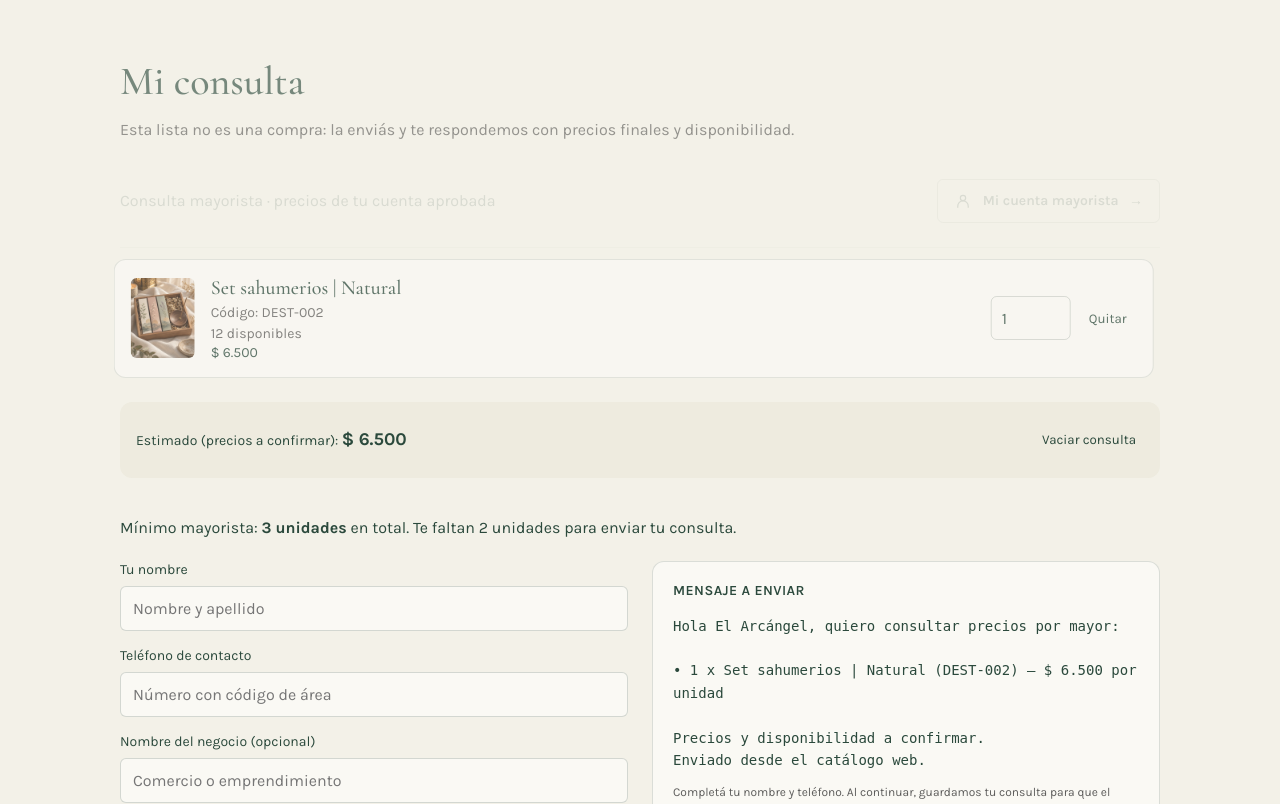
Scenario: El mínimo de unidades se exige aunque no haya importe mínimo
The width and height of the screenshot is (1280, 804).
Check: the text "Te faltan 2 unidades" is shown, box [413,518,736,537]
Clear the number field named "Cantidad de Set sahumerios | Natural". click: (1031, 318)
box: [991,296,1071,340]
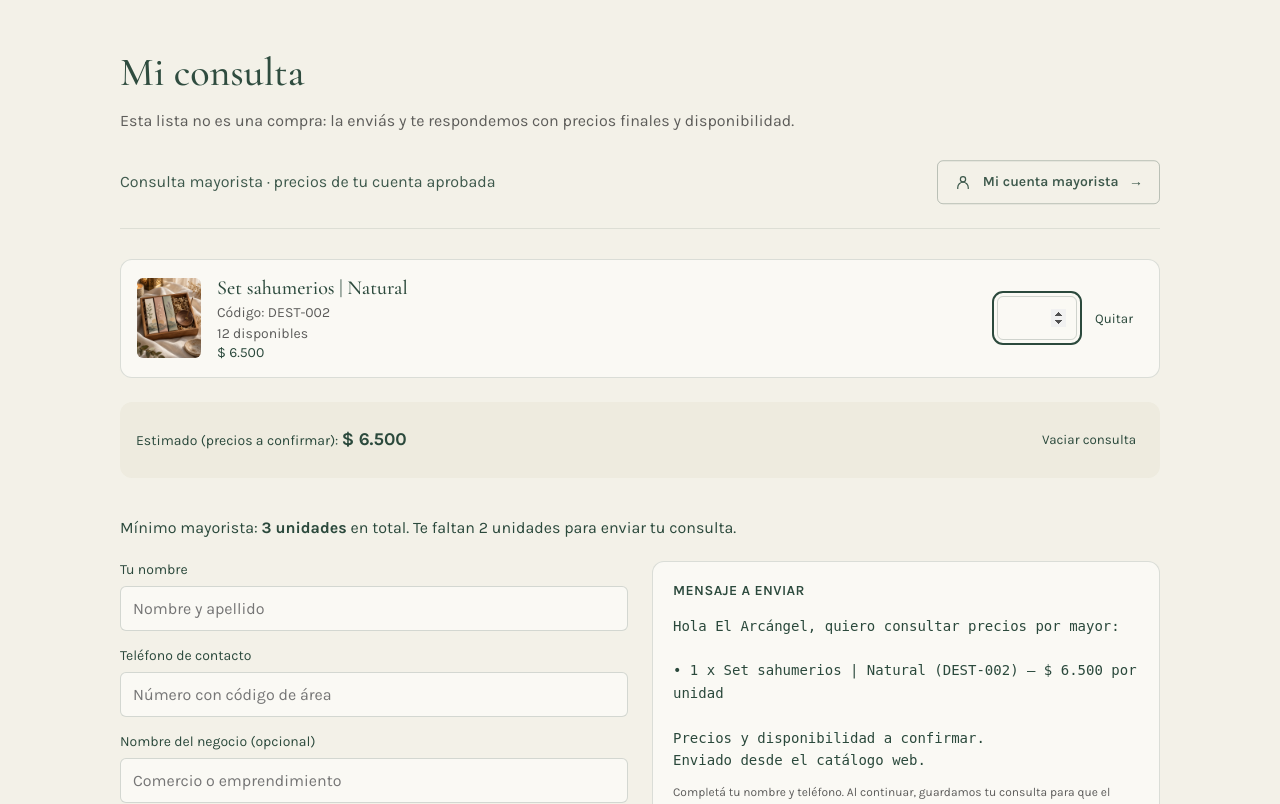
Type "3" into the number field named "Cantidad de Set sahumerios | Natural". click: (1037, 318)
box: [997,296,1077,340]
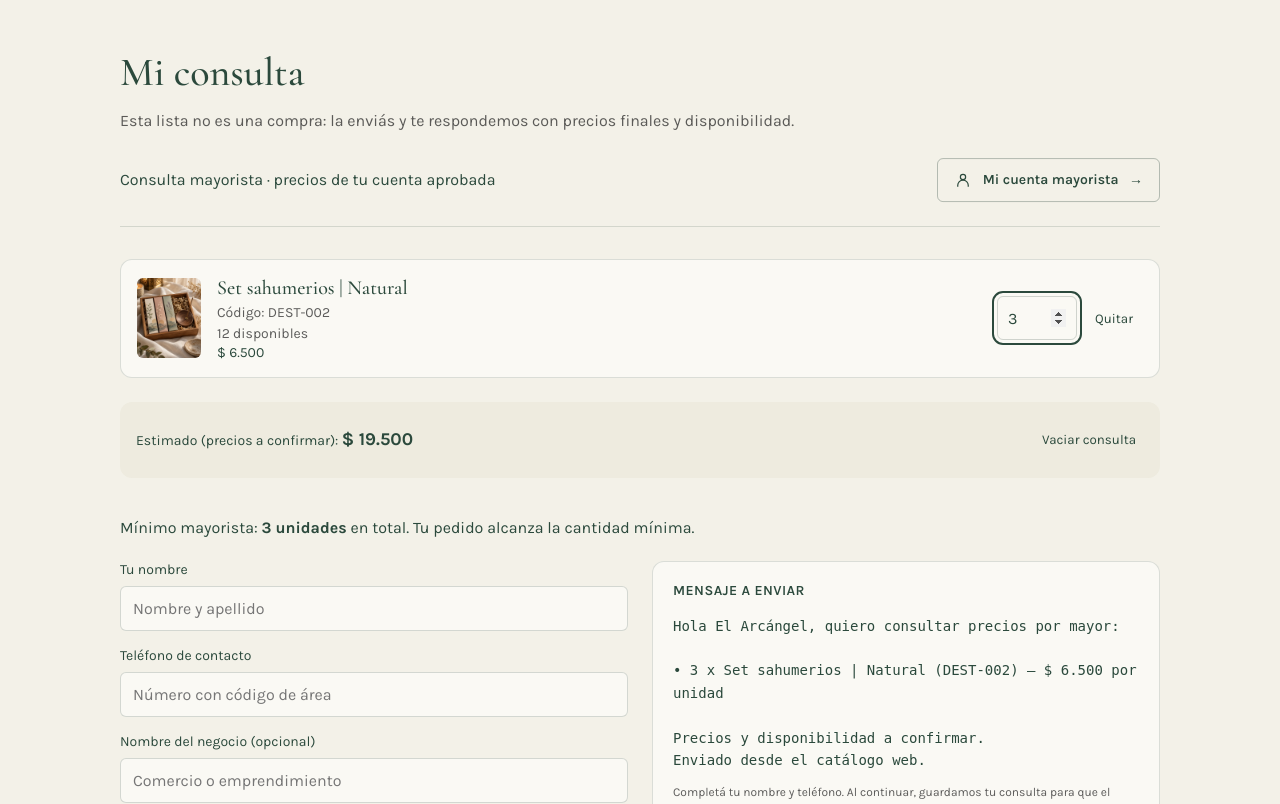
Press Tab
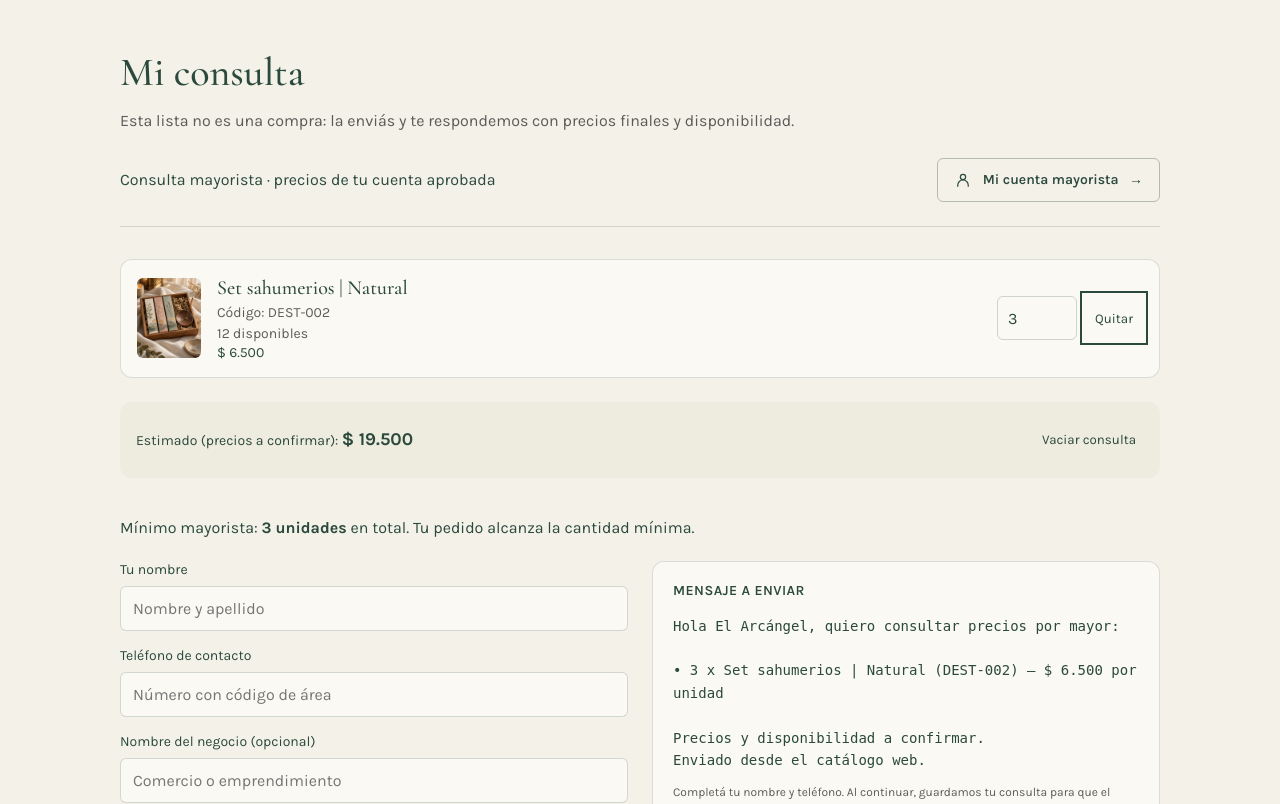
Type "Cliente" into the field labelled "Tu nombre". click: (374, 608)
box: [120,586,628,631]
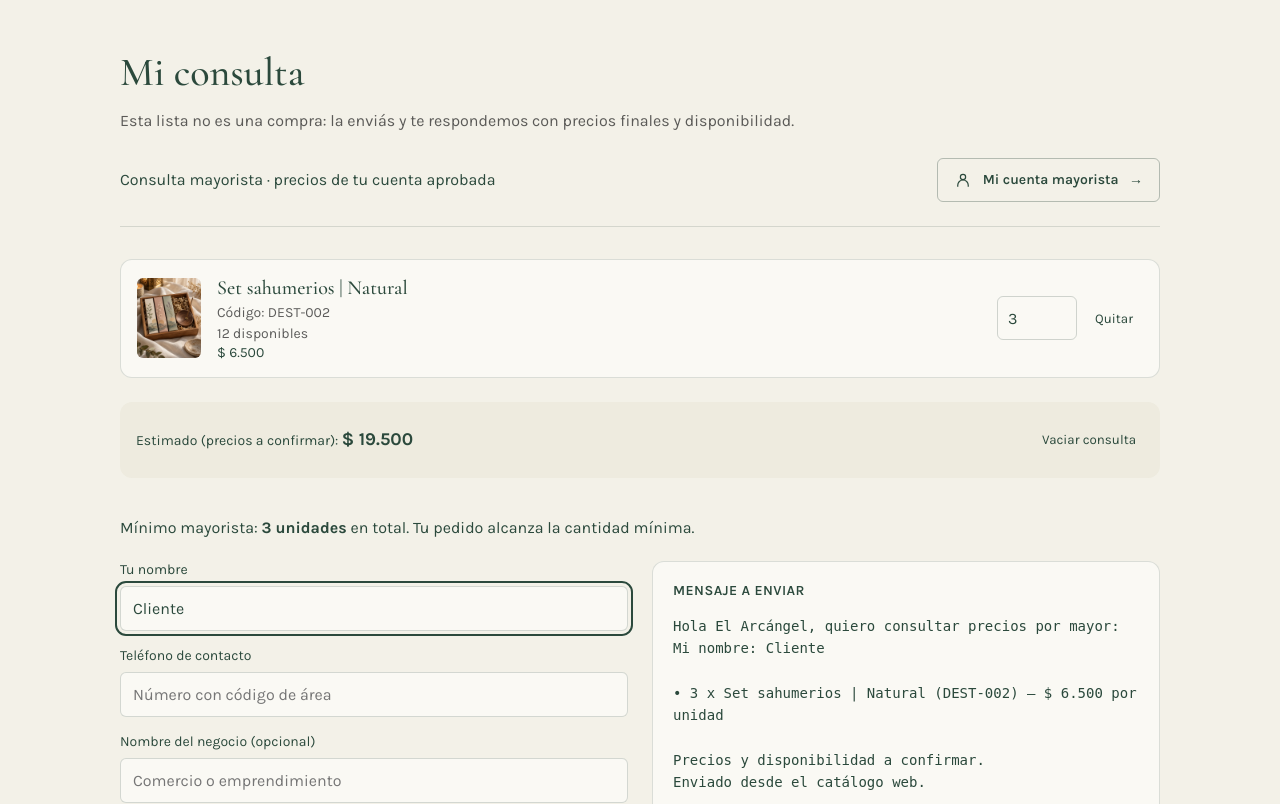
Type "2235551234" into the field labelled "Teléfono de contacto". click: (374, 694)
box: [120,672,628,717]
(page scrolled)
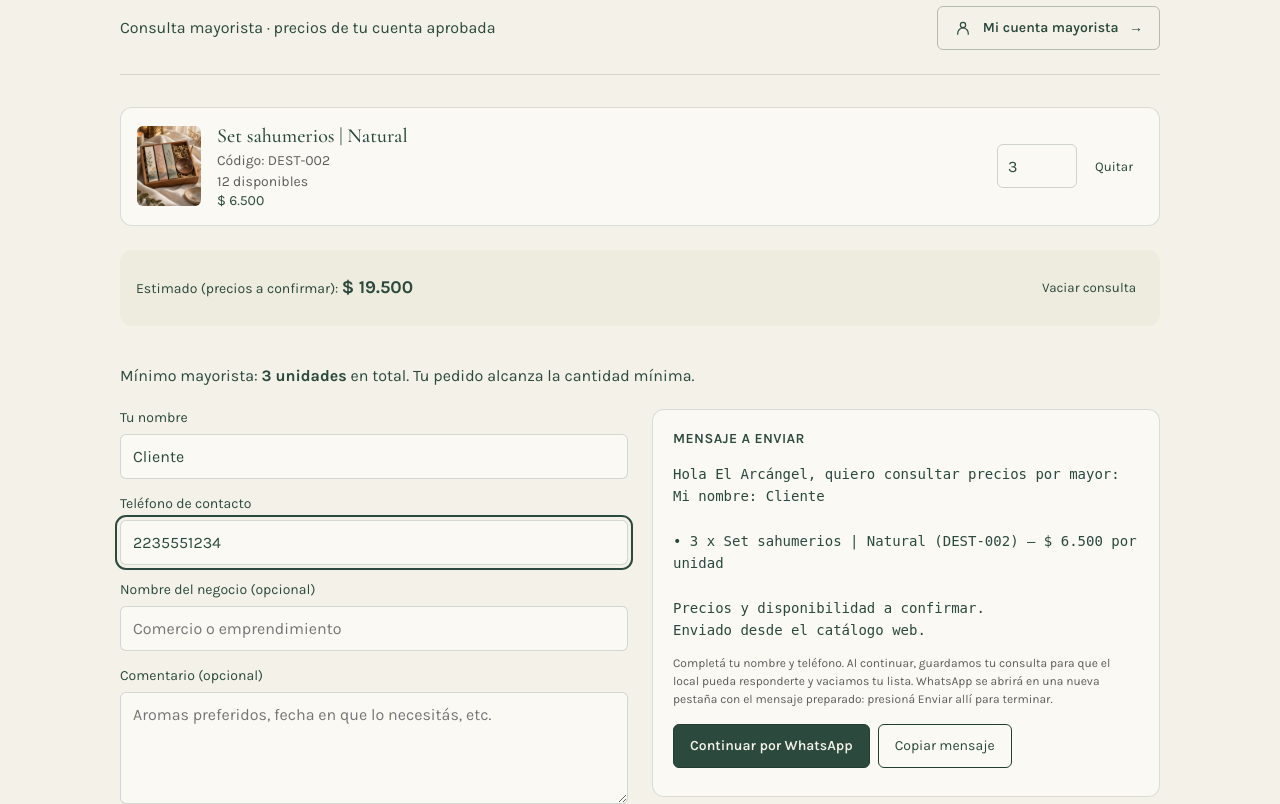
Check: the button "Continuar por WhatsApp" is enabled, box [673,724,870,768]
